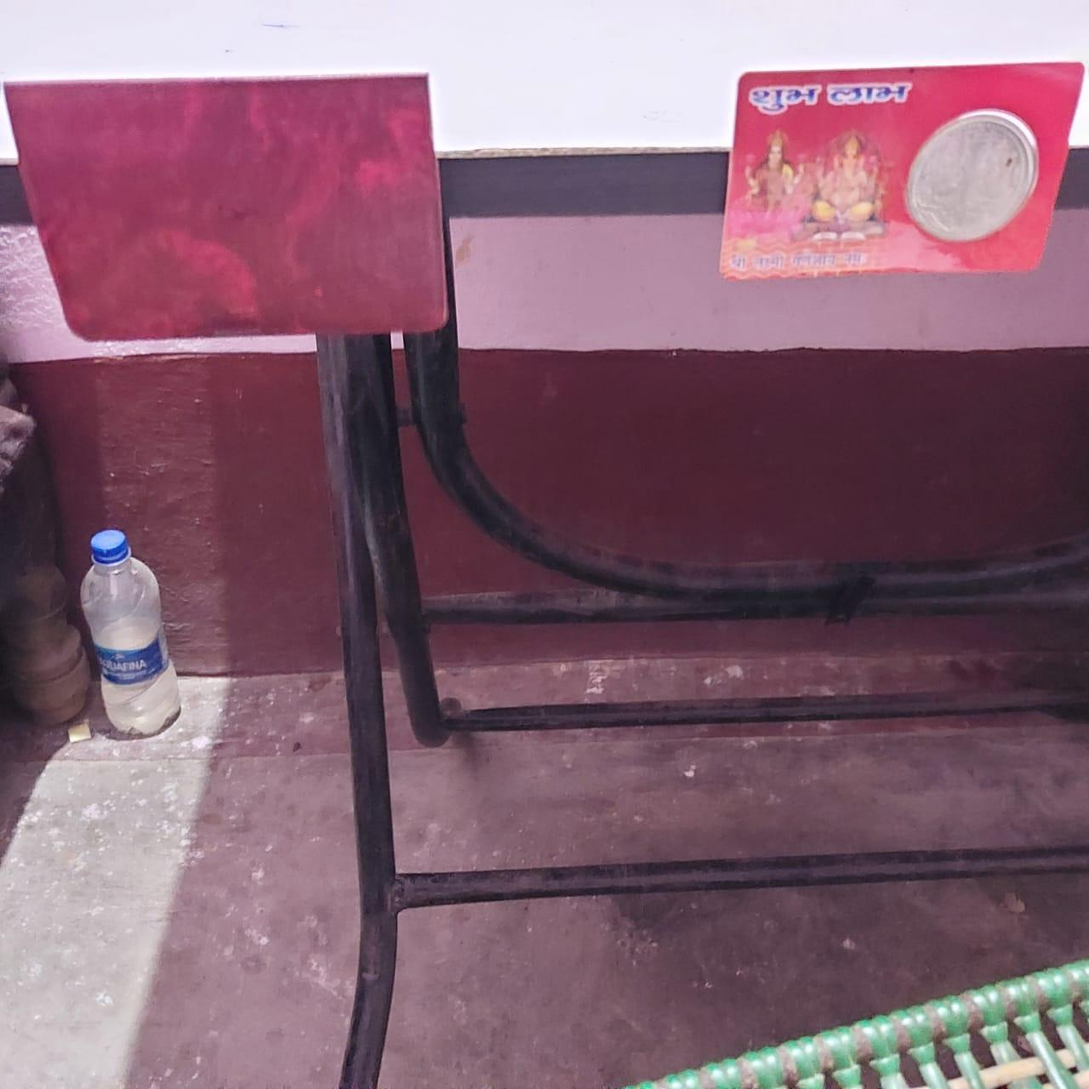blessing_card: (723, 55, 1088, 290)
wallet: (0, 72, 468, 343)
